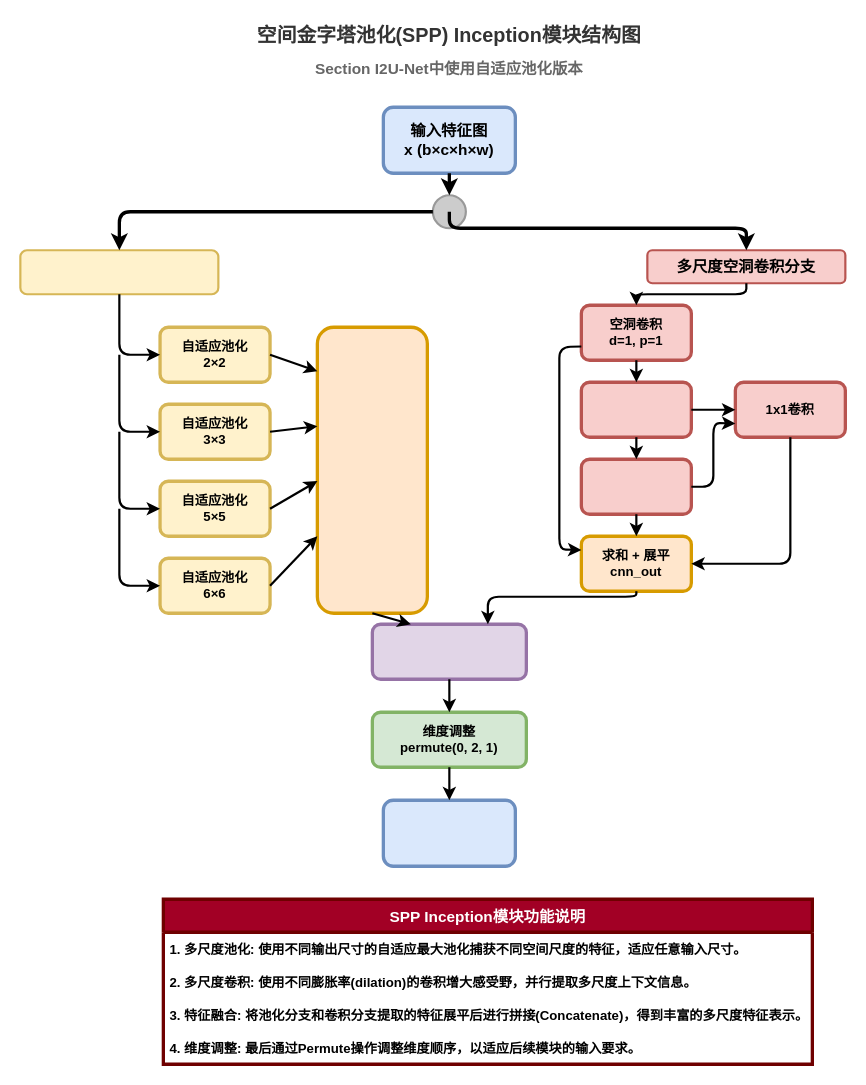
This 866x1085 diagram has some shape labels left out. The centre of each missing label's shape, as x and y in pixels:
多尺度自适应池化分支: (x=119, y=272)
展平 + 拼接 pool_cat: (x=371, y=469)
特征拼接 torch.cat: (x=448, y=651)
空洞卷积 d=3, p=3: (x=635, y=409)
空洞卷积 d=5, p=5: (x=635, y=486)
输出特征 (b×L×c): (x=448, y=832)
